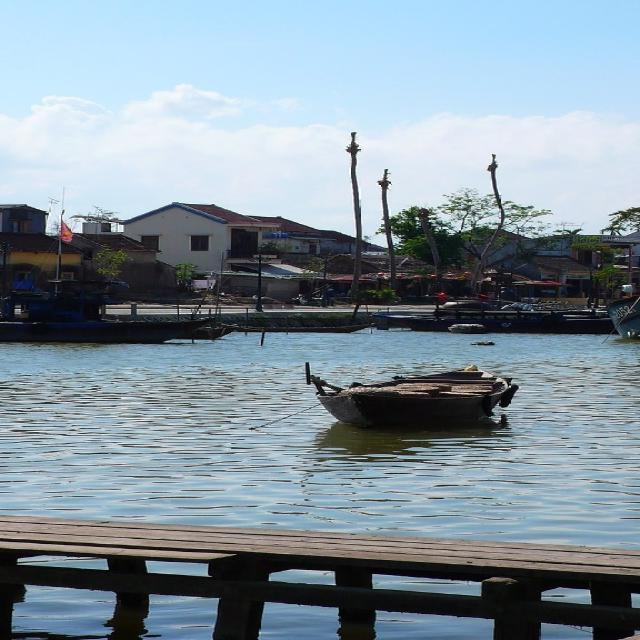boat: (296, 361, 511, 428), (0, 315, 235, 349)
